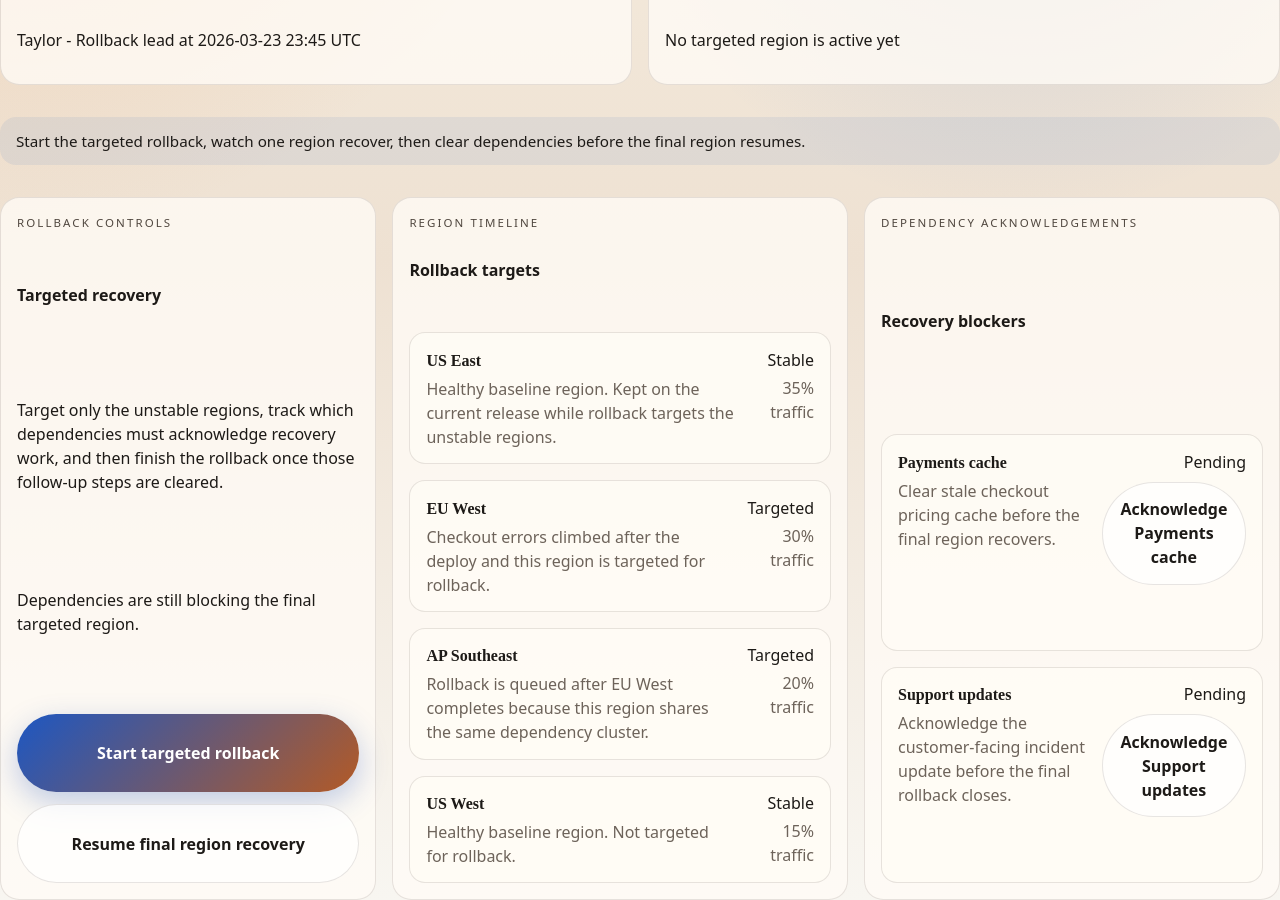
Scenario: release multi-region rollback › stops in partial recovery until dependency acknowledgements are complete
(page scrolled)
Click the button "Start targeted rollback" at coordinates (188, 753), box [17,714,359,792]
Wait 2580 ms
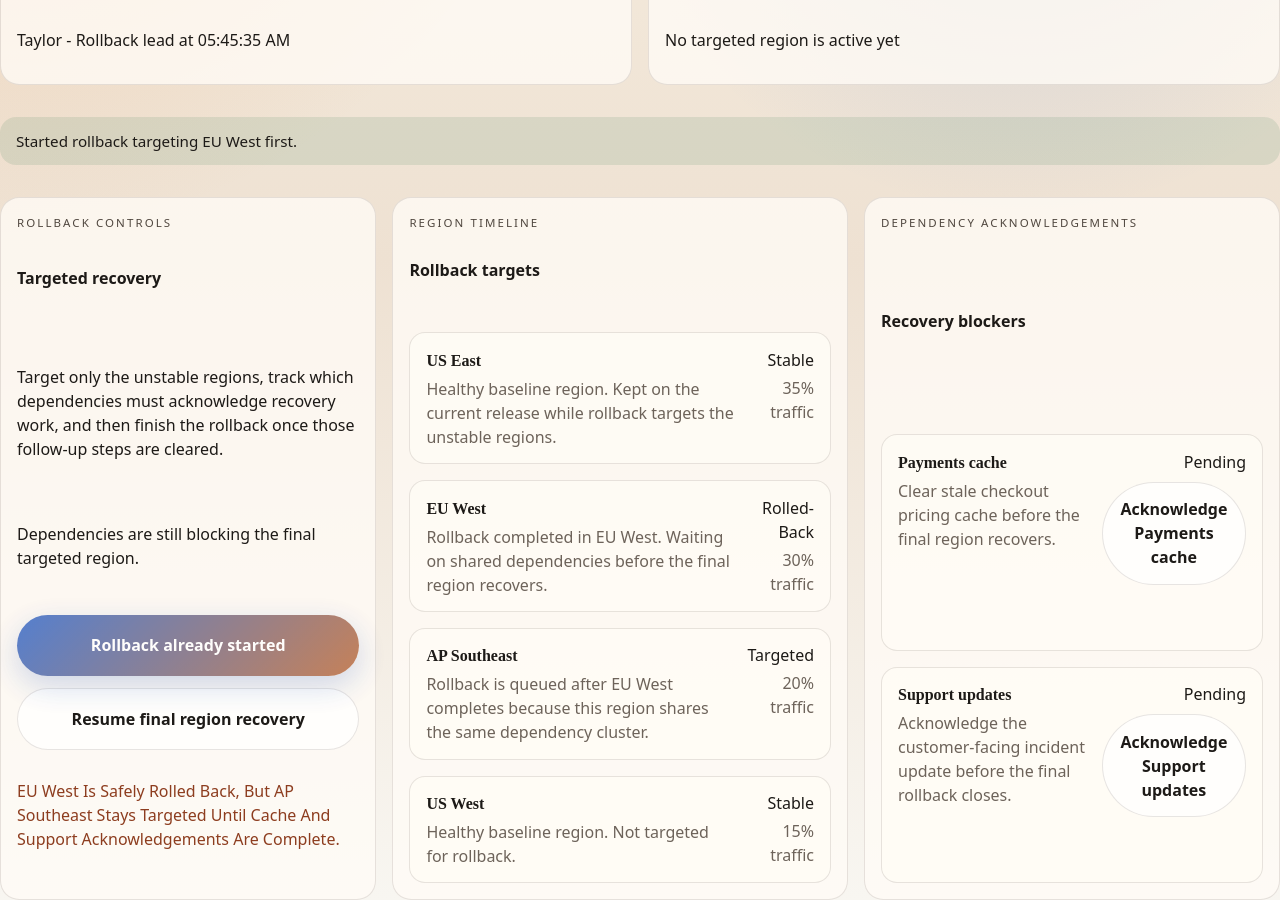
Now the text "EU West is safely rolled back, but AP Southeast stays targeted until cache and support acknowledgements are complete." is shown, box [17,780,340,850]
Click the button "Resume final region recovery" at coordinates (188, 719), box [17,688,359,750]
Wait 220 ms
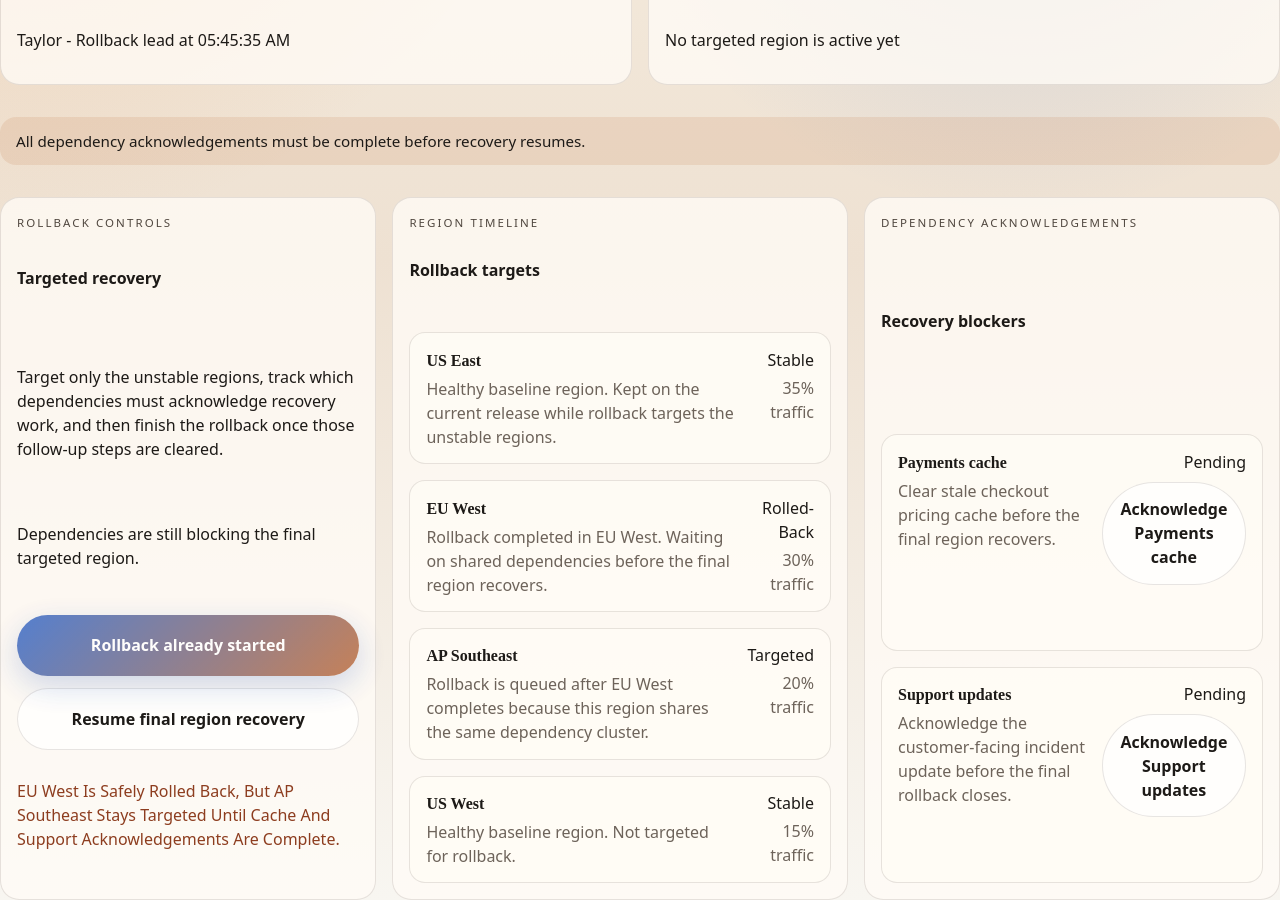
Now the text "All dependency acknowledgements must be complete before recovery resumes." is shown, box [0,117,1279,165]
